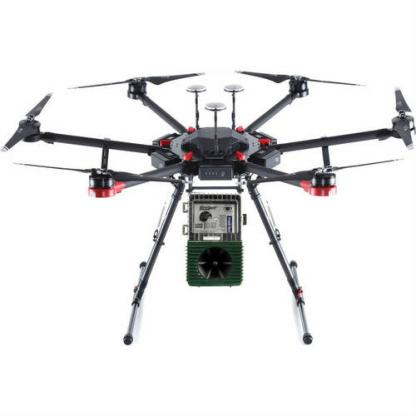drone: (6, 61, 416, 228)
